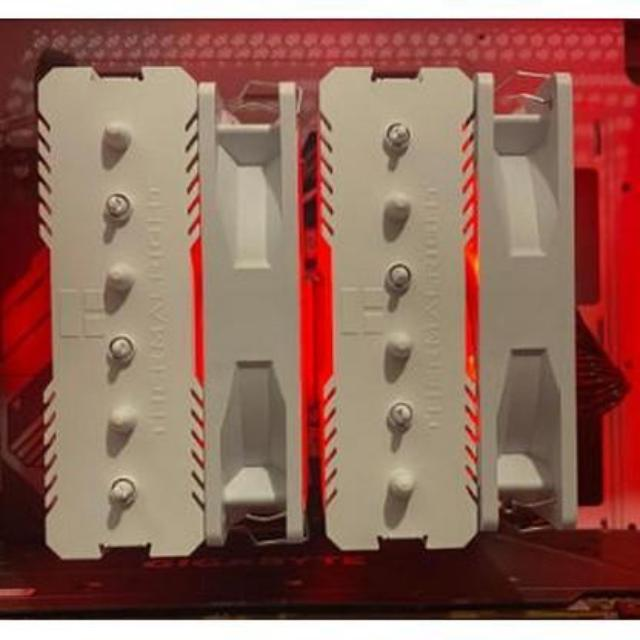CPU_Fan: (37, 66, 577, 554)
